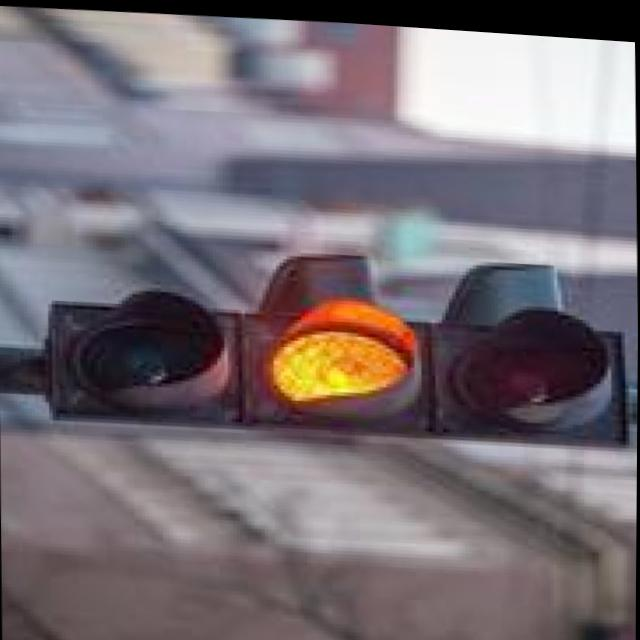yellow_light: (252, 271, 423, 456)
